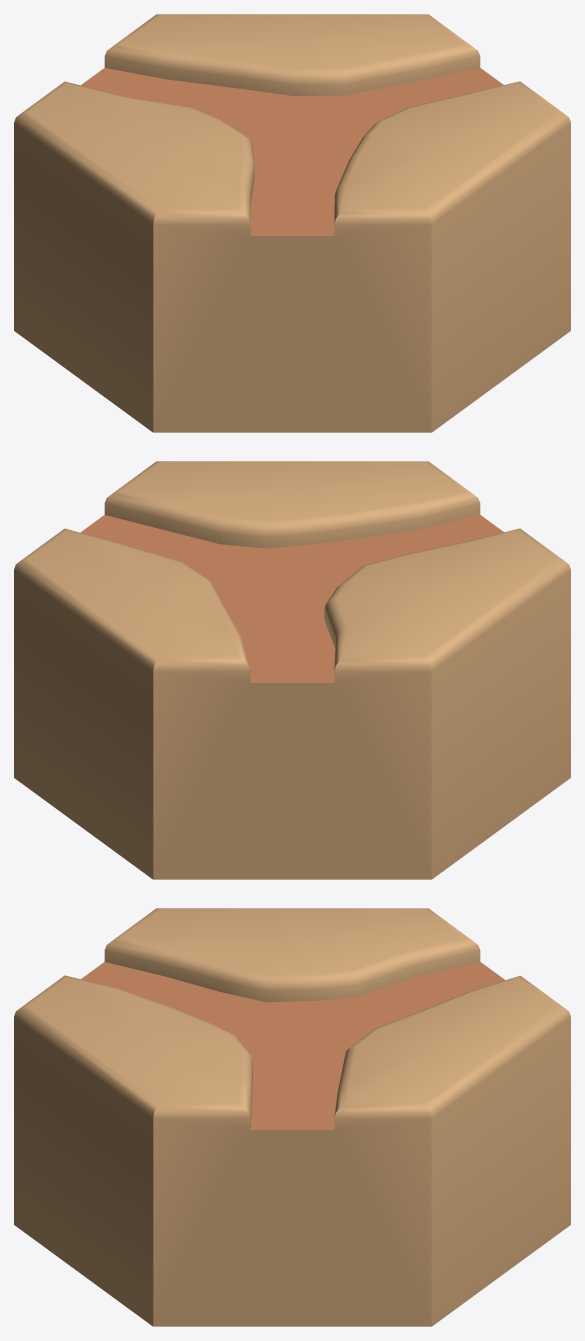
Rendered from hex_sand_roadG.glb.
3 views of the same model, one above another, from view 1: azimuth 30°, elevation 25°; view 2: azimuth 150°, elevation 25°; view 3: azimuth 270°, elevation 25° (orthographic).
Parts seen in each view (by area): view 1: hex_sand_roadG; view 2: hex_sand_roadG; view 3: hex_sand_roadG.
Part boxes in pixels (left/top/right/bottom): hex_sand_roadG: left=14, top=14, right=570, bottom=432; hex_sand_roadG: left=14, top=461, right=570, bottom=879; hex_sand_roadG: left=14, top=908, right=570, bottom=1326.
Size of the model in its own units: 3.43 by 1.72 by 3.96.
